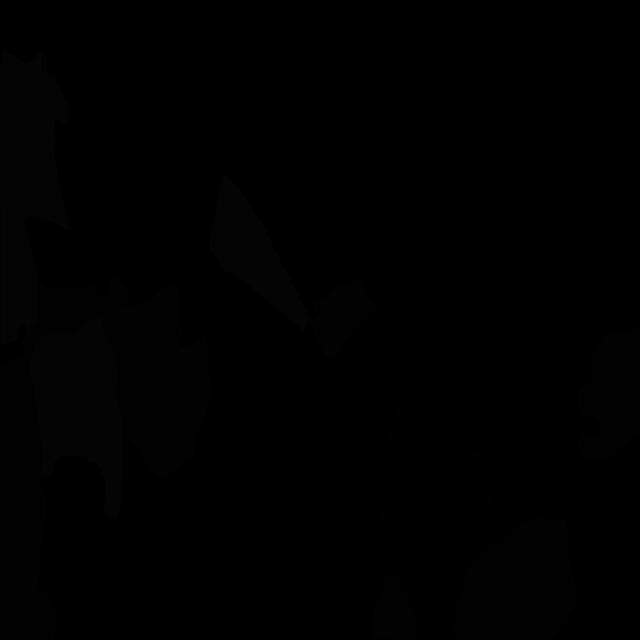cardboard: (102, 275, 213, 480), (0, 356, 57, 640), (452, 516, 577, 640), (576, 320, 640, 460), (22, 276, 106, 368), (310, 278, 380, 361), (372, 573, 417, 640)
rigid_plastic: (372, 385, 496, 640)
soft_plastic: (0, 51, 71, 346), (29, 316, 123, 521), (208, 173, 309, 331)
